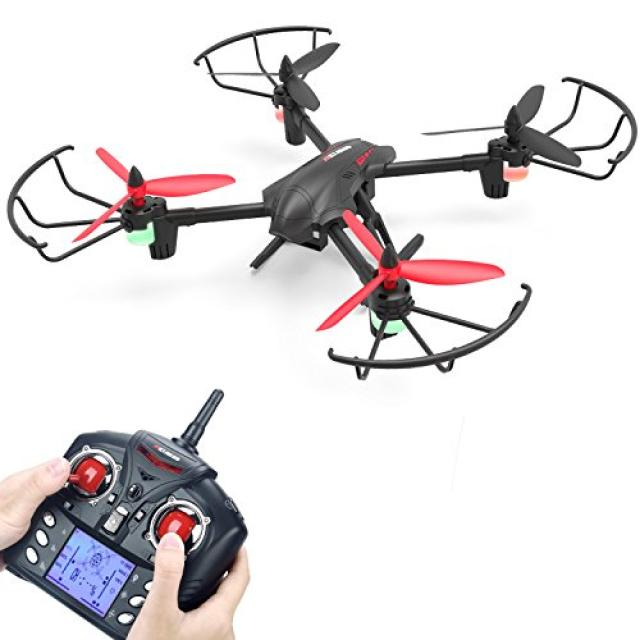drone: (5, 0, 640, 378)
